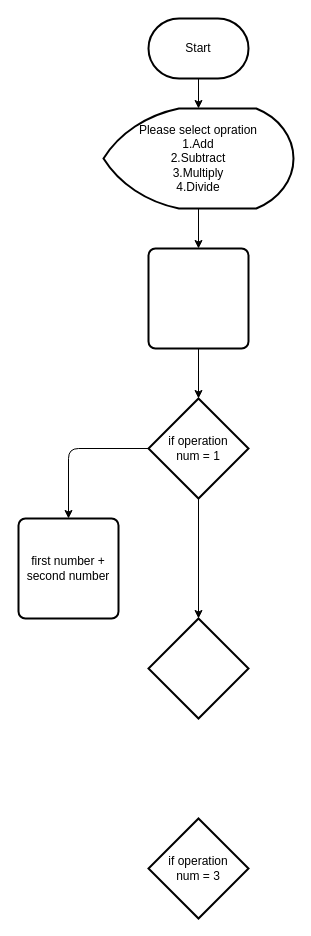
Some shapes in this 311 by 936 pixel diagram are drawn without their labels. Each missing label, with the centre of its shape:
"if operation num = 2" belongs at point 198,668.
"Operation number form : 1,2,3,4" belongs at point 198,298.
